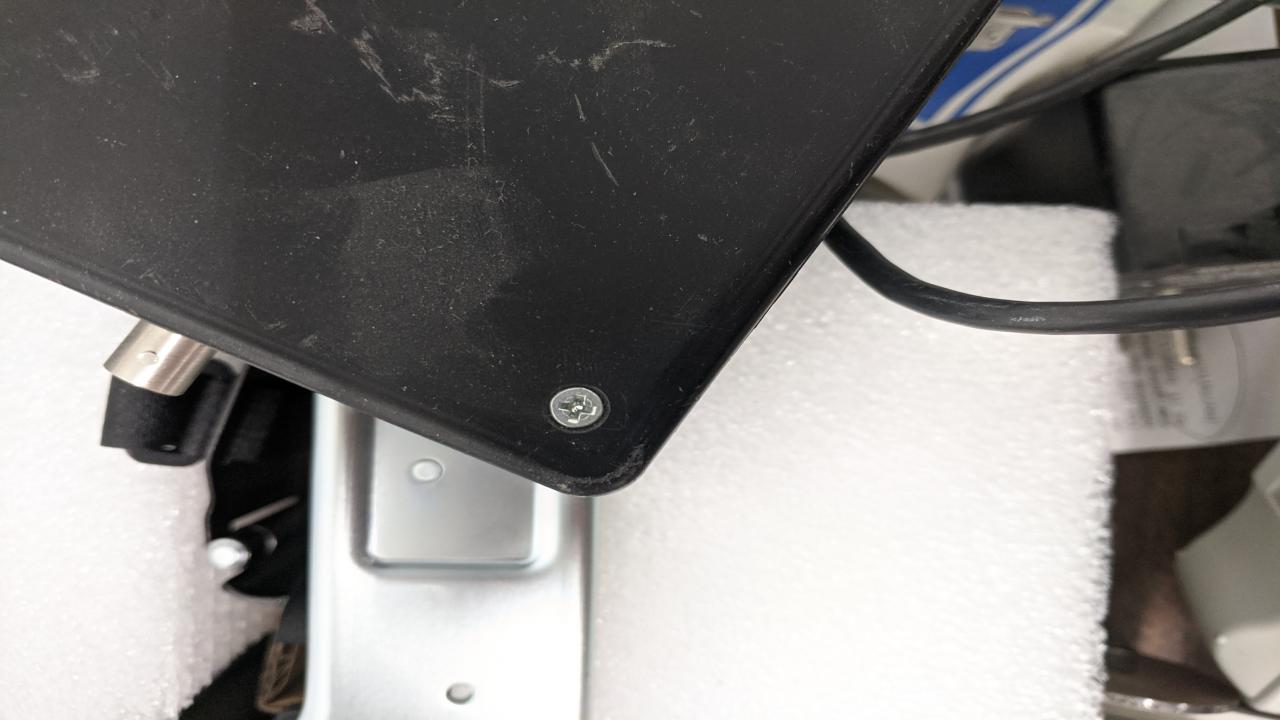CRS: (548, 387, 609, 429)
